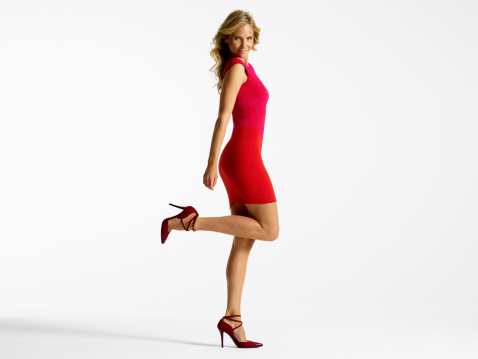em pe: (165, 0, 281, 353)
